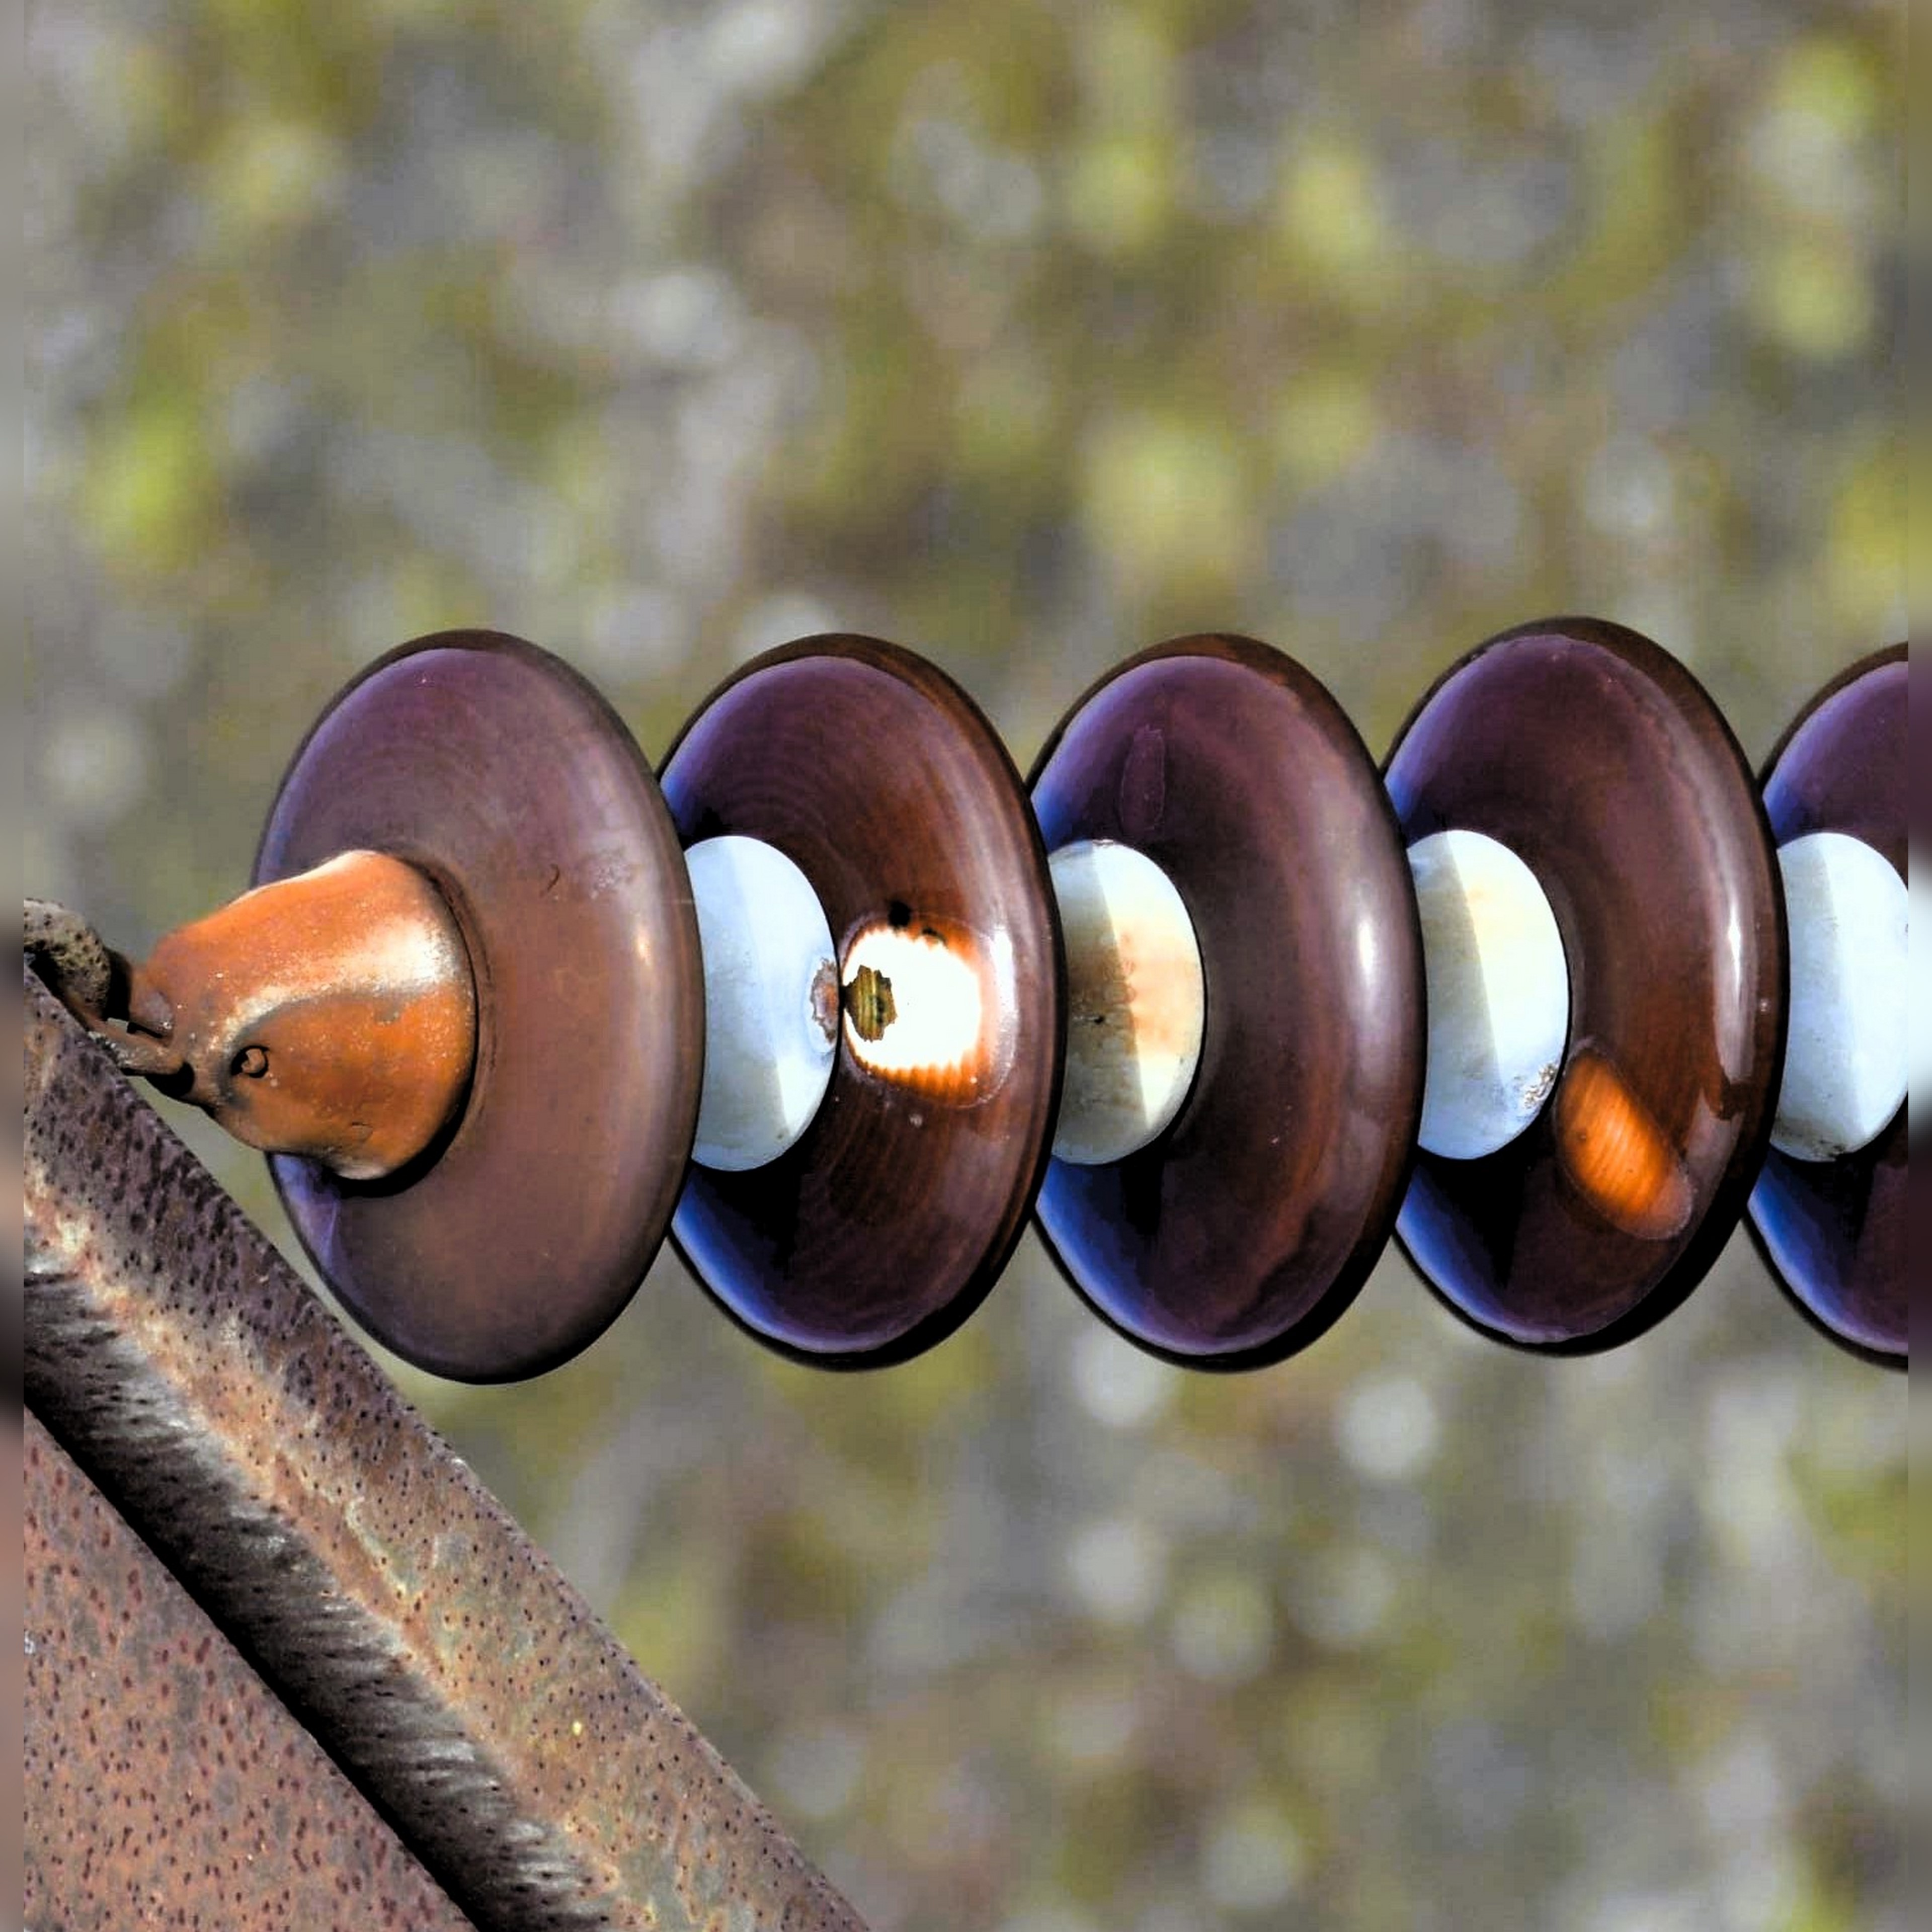Insulator flashover: (635, 612, 1076, 1384), (1371, 605, 1796, 1369)
